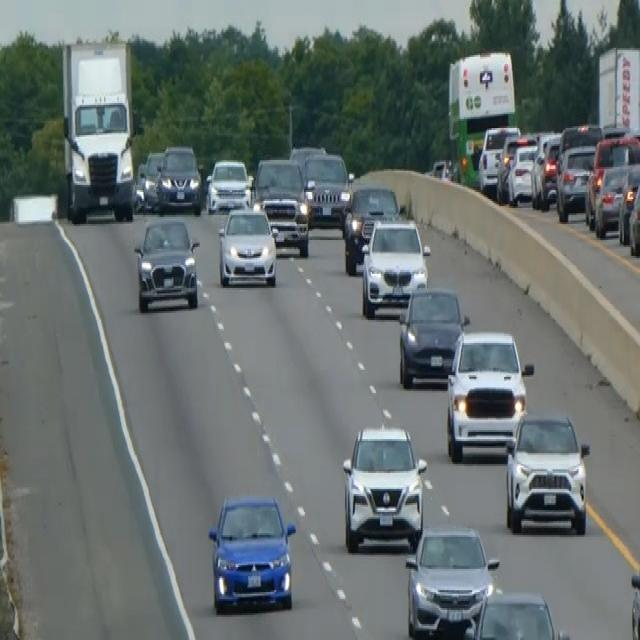car: (445, 327, 533, 462), (341, 421, 427, 553), (404, 523, 499, 638), (207, 492, 296, 614), (504, 409, 590, 535), (397, 282, 468, 388), (360, 215, 430, 318), (133, 215, 200, 313), (251, 156, 310, 256), (462, 587, 571, 638), (584, 132, 639, 230), (342, 183, 399, 274), (217, 203, 277, 288), (302, 149, 352, 226), (156, 142, 202, 214), (555, 142, 596, 220), (477, 122, 519, 194), (205, 156, 251, 214), (593, 162, 629, 236), (530, 133, 561, 208), (506, 137, 538, 204), (617, 162, 639, 245), (137, 149, 163, 210), (289, 142, 326, 171), (627, 172, 639, 256), (133, 160, 146, 210)
lorry: (60, 38, 136, 222)
